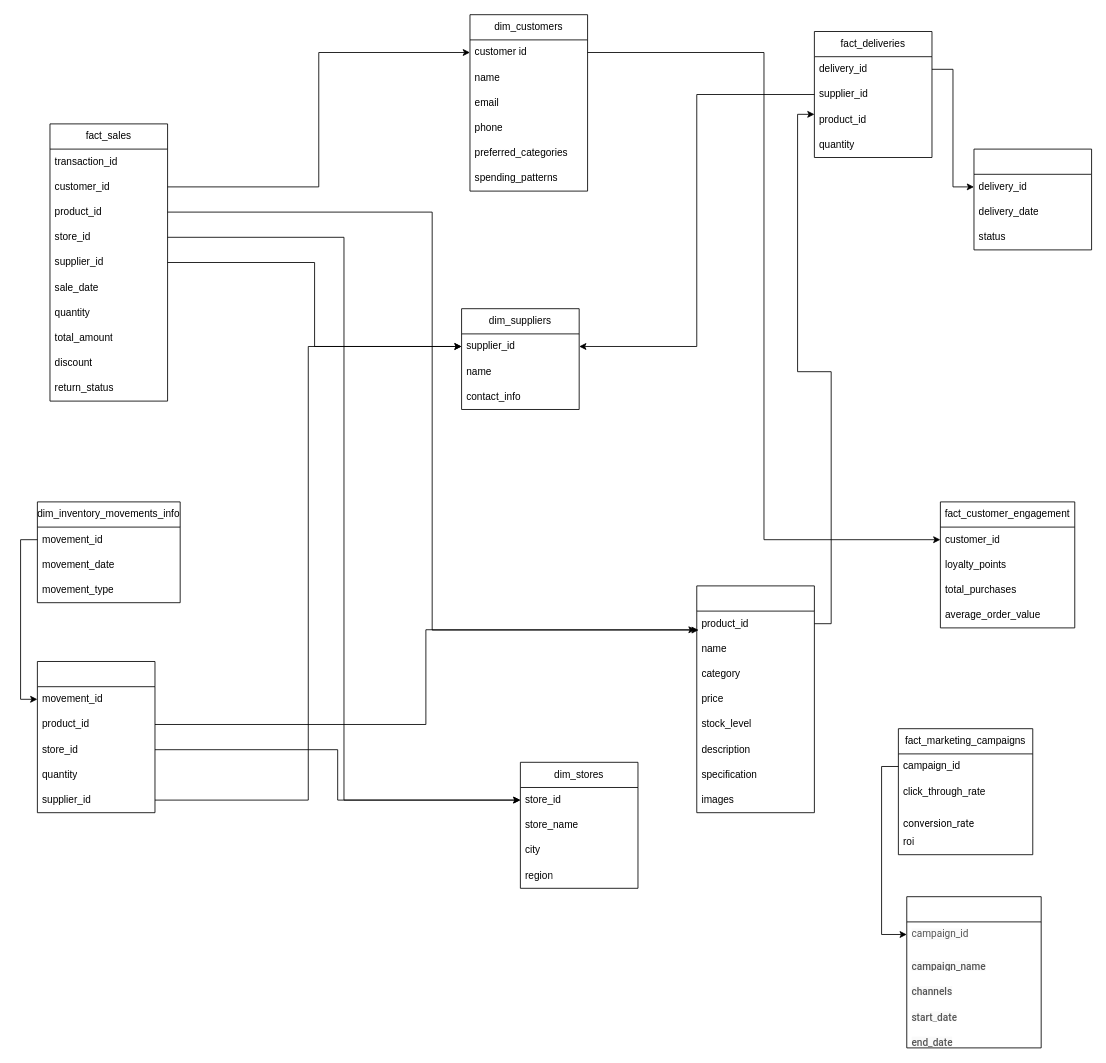
This 1106x1063 diagram has some shape labels left out. The shapes that lost their labels are listed below. From the top down, each one's box as (x1, y1, x2, y2) in pixels, then its label:
(973, 148, 1092, 250): dim_deliveries_status
(696, 585, 814, 813): dim_products
(37, 661, 155, 813): fact_inventory_movements
(906, 896, 1041, 1048): dim_marketing_campaigns
